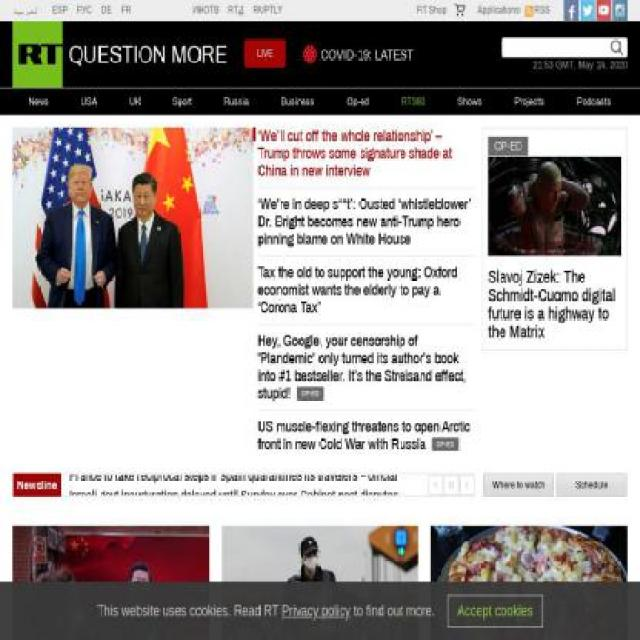button: (488, 156, 621, 256), (447, 594, 544, 628), (302, 44, 415, 65), (12, 54, 228, 64), (264, 89, 331, 116), (561, 89, 628, 116), (498, 89, 562, 116), (482, 473, 555, 496), (483, 473, 554, 496), (556, 473, 627, 496), (556, 473, 626, 496), (384, 89, 442, 116), (441, 89, 499, 116), (208, 89, 264, 116), (331, 89, 386, 116), (12, 89, 65, 116), (156, 89, 209, 116), (64, 89, 114, 116), (113, 89, 158, 116), (244, 40, 285, 68), (416, 4, 466, 15), (596, 0, 612, 20), (612, 0, 628, 20), (564, 0, 579, 20), (580, 0, 595, 20)
field: (506, 40, 608, 55), (607, 35, 627, 60)
